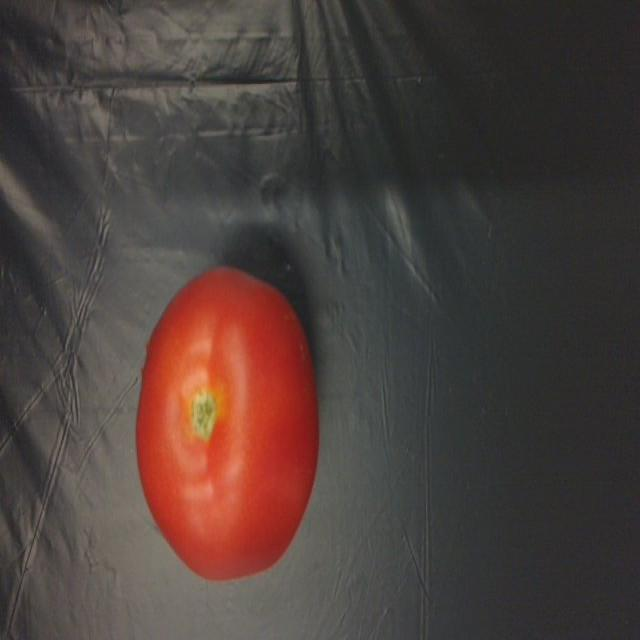kirmizi: (131, 255, 330, 581)
